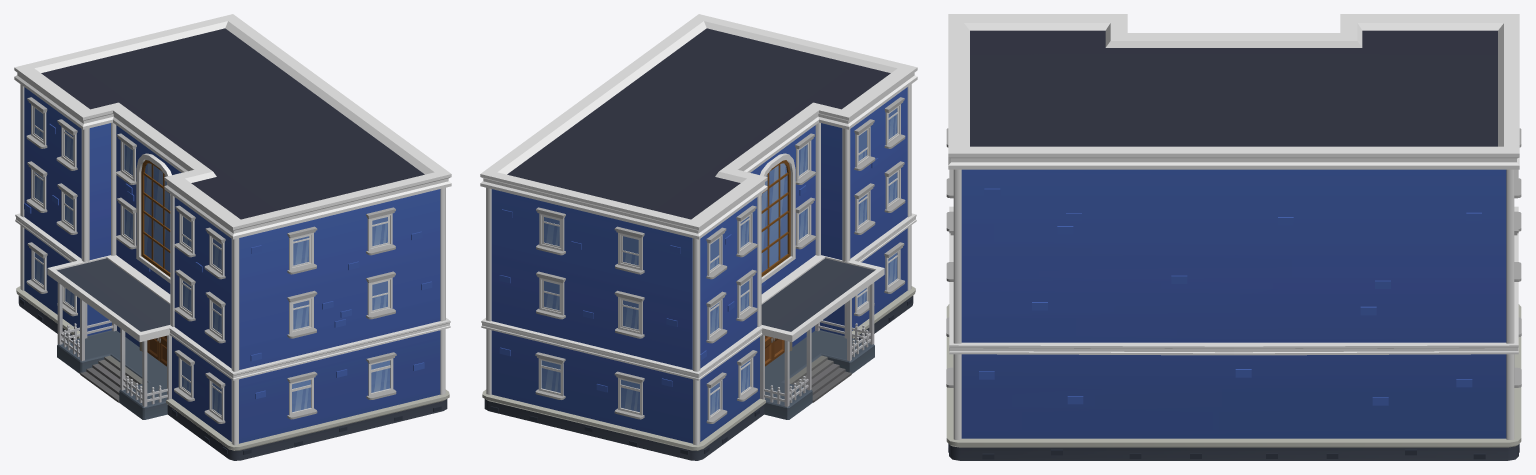
File: Building_5_2_D.fbx
The picture shows the model from 3 angles, left to right: view 1: azimuth 30°, elevation 25°; view 2: azimuth 150°, elevation 25°; view 3: azimuth 270°, elevation 25°; orthographic projection. The views are drawn at different scales.
Visible parts, largest first — view 1: Building_5_2_D; view 2: Building_5_2_D; view 3: Building_5_2_D.
Part boxes in pixels (x1,y1,x2,y2): Building_5_2_D: (14,14,451,460); Building_5_2_D: (480,14,917,460); Building_5_2_D: (946,14,1521,460).
Size of the model in its own units: 1251 by 1126 by 1908.
